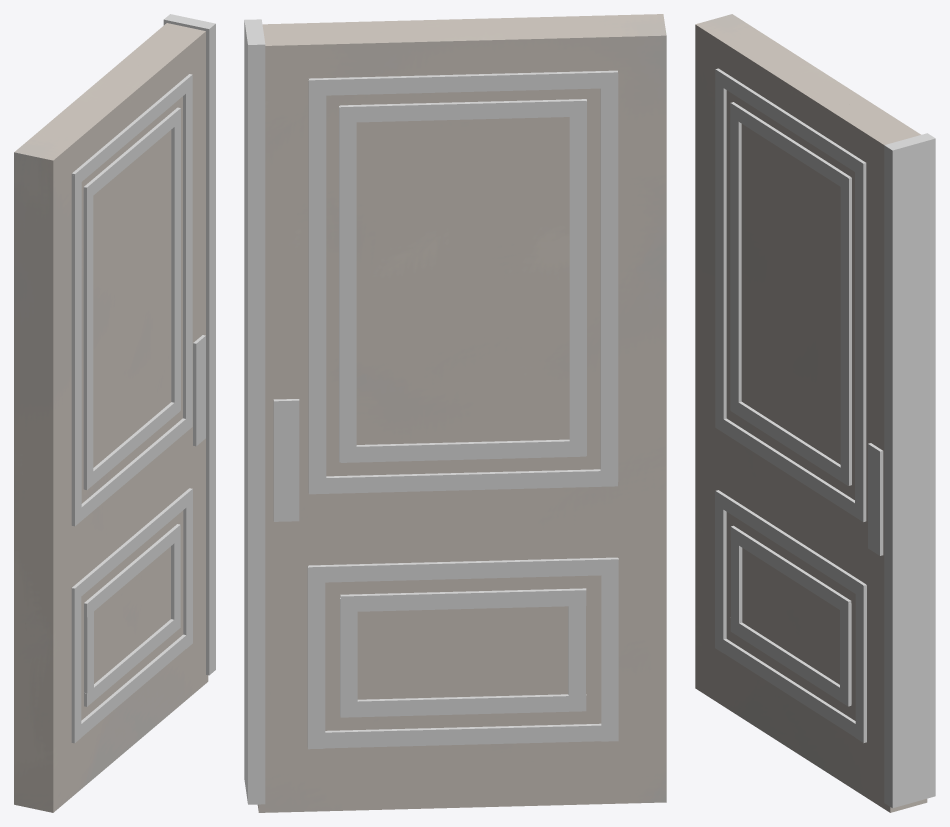
The model's file is SingleDoor_model.fbx.
3 renders of one model, left to right at view 1: azimuth 30°, elevation 25°; view 2: azimuth 150°, elevation 25°; view 3: azimuth 270°, elevation 25°, orthographic. The views are drawn at different scales.
Parts seen in each view (by area): view 1: Door1, DoorLightSide1, DoorLightTopSquareOuterRight1, DoorLightTopSquareOuterLeft1, DoorLightTopSquareInnerRight1, DoorLightTopSquareInnerLeft1, DoorLightBottomSquareOuterTop1, DoorLightTopSquareOuterTop1, DoorLightTopSquareOuterBottom1, DoorLightBottomSquareOuterBottom1, DoorLightBottomSquareInnerTop1, DoorLightTopSquareInner1 (+7 smaller); view 2: Door1, DoorLightSide1, DoorLightTopSquareOuterRight1, DoorLightTopSquareOuterLeft1, DoorLightTopSquareInnerRight1, DoorLightTopSquareInnerLeft1, DoorLightBottomSquareOuterBottom1, DoorLightTopSquareOuterTop1, DoorLightBottomSquareOuterTop1, DoorLightTopSquareOuterBottom1, DoorLightBottomSquareInnerTop1, DoorLightBottomSquareInnerBottom1 (+7 smaller); view 3: Door1, DoorLightSide1, DoorLightTopSquareOuterLeft1, DoorLightTopSquareOuterRight1, DoorLightTopSquareInnerLeft1, DoorLightTopSquareInnerRight1, DoorLightBottomSquareOuterTop1, DoorLightTopSquareOuterTop1, DoorLightTopSquareOuterBottom1, DoorLightBottomSquareOuterBottom1, DoorLightBottomSquareInnerTop1, DoorLightTopSquareInner1 (+7 smaller).
Part boxes in pixels (left/top/right/bottom): Door1: left=14, top=23, right=208, bottom=812; DoorLightSide1: left=163, top=14, right=215, bottom=675; DoorLightTopSquareOuterRight1: left=71, top=175, right=81, bottom=522; DoorLightTopSquareOuterLeft1: left=183, top=76, right=192, bottom=428; DoorLightTopSquareInnerRight1: left=83, top=187, right=93, bottom=489; DoorLightTopSquareInnerLeft1: left=171, top=107, right=180, bottom=414; DoorLightBottomSquareOuterTop1: left=72, top=488, right=192, bottom=601; DoorLightTopSquareOuterTop1: left=71, top=74, right=192, bottom=187; DoorLightTopSquareOuterBottom1: left=71, top=418, right=192, bottom=526; DoorLightBottomSquareOuterBottom1: left=75, top=634, right=186, bottom=742; DoorLightBottomSquareInnerTop1: left=84, top=524, right=180, bottom=616; DoorLightTopSquareInner1: left=84, top=107, right=180, bottom=200; Door1: left=257, top=14, right=666, bottom=812; DoorLightSide1: left=244, top=19, right=265, bottom=804; DoorLightTopSquareOuterRight1: left=600, top=73, right=618, bottom=482; DoorLightTopSquareOuterLeft1: left=308, top=80, right=326, bottom=488; DoorLightTopSquareInnerRight1: left=569, top=99, right=586, bottom=456; DoorLightTopSquareInnerLeft1: left=339, top=106, right=356, bottom=462; DoorLightBottomSquareOuterBottom1: left=309, top=723, right=617, bottom=748; DoorLightTopSquareOuterTop1: left=308, top=70, right=617, bottom=95; DoorLightBottomSquareOuterTop1: left=308, top=557, right=617, bottom=582; DoorLightTopSquareOuterBottom1: left=308, top=469, right=617, bottom=494; DoorLightBottomSquareInnerTop1: left=340, top=588, right=586, bottom=612; DoorLightBottomSquareInnerBottom1: left=340, top=694, right=586, bottom=717; Door1: left=695, top=14, right=927, bottom=812; DoorLightSide1: left=884, top=133, right=935, bottom=808; DoorLightTopSquareOuterLeft1: left=855, top=160, right=866, bottom=518; DoorLightTopSquareOuterRight1: left=715, top=83, right=726, bottom=419; DoorLightTopSquareInnerLeft1: left=840, top=174, right=851, bottom=485; DoorLightTopSquareInnerRight1: left=730, top=103, right=741, bottom=409; DoorLightBottomSquareOuterTop1: left=715, top=490, right=866, bottom=593; DoorLightTopSquareOuterTop1: left=715, top=68, right=866, bottom=171; DoorLightTopSquareOuterBottom1: left=715, top=414, right=866, bottom=521; DoorLightBottomSquareOuterBottom1: left=715, top=634, right=855, bottom=737; DoorLightBottomSquareInnerTop1: left=730, top=525, right=851, bottom=609; DoorLightTopSquareInner1: left=730, top=102, right=851, bottom=188.
Size of the model in its own units: 4.81 by 10.74 by 3.51.
1 material, 1 textured.
